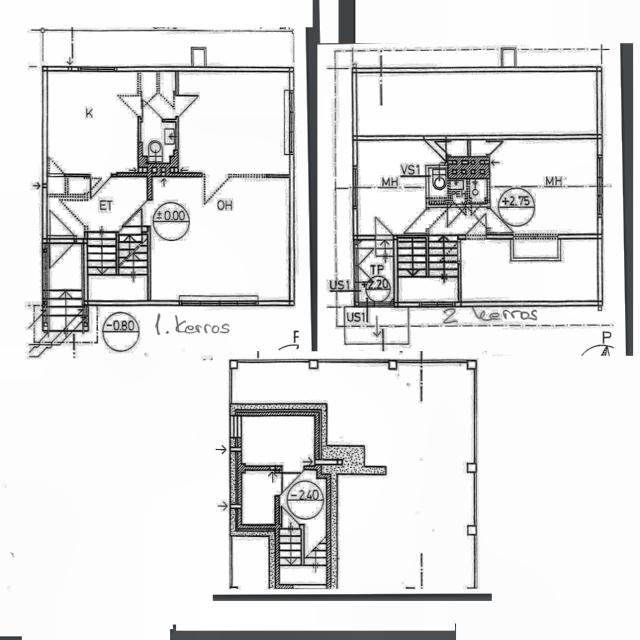Doors-dC8s: (511, 233, 559, 239), (120, 229, 156, 237), (46, 209, 50, 272), (282, 468, 308, 475), (137, 93, 143, 120), (275, 475, 282, 495), (355, 249, 359, 281), (378, 236, 393, 242), (47, 173, 69, 177), (201, 174, 229, 177), (90, 174, 114, 177), (449, 203, 468, 206), (174, 92, 176, 120), (464, 236, 492, 238)
Window: (174, 292, 264, 309), (283, 91, 298, 156), (350, 165, 360, 211), (598, 160, 605, 220), (231, 417, 243, 440), (82, 304, 90, 332), (82, 66, 118, 72), (413, 304, 462, 308), (70, 175, 88, 180)
